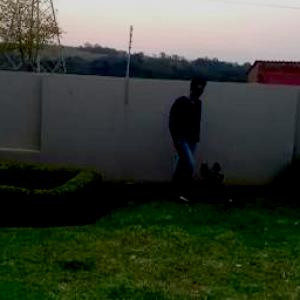follow: (164, 76, 200, 198)
